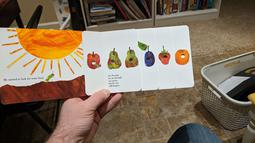text block: (103, 70, 125, 89), (1, 75, 43, 83)
